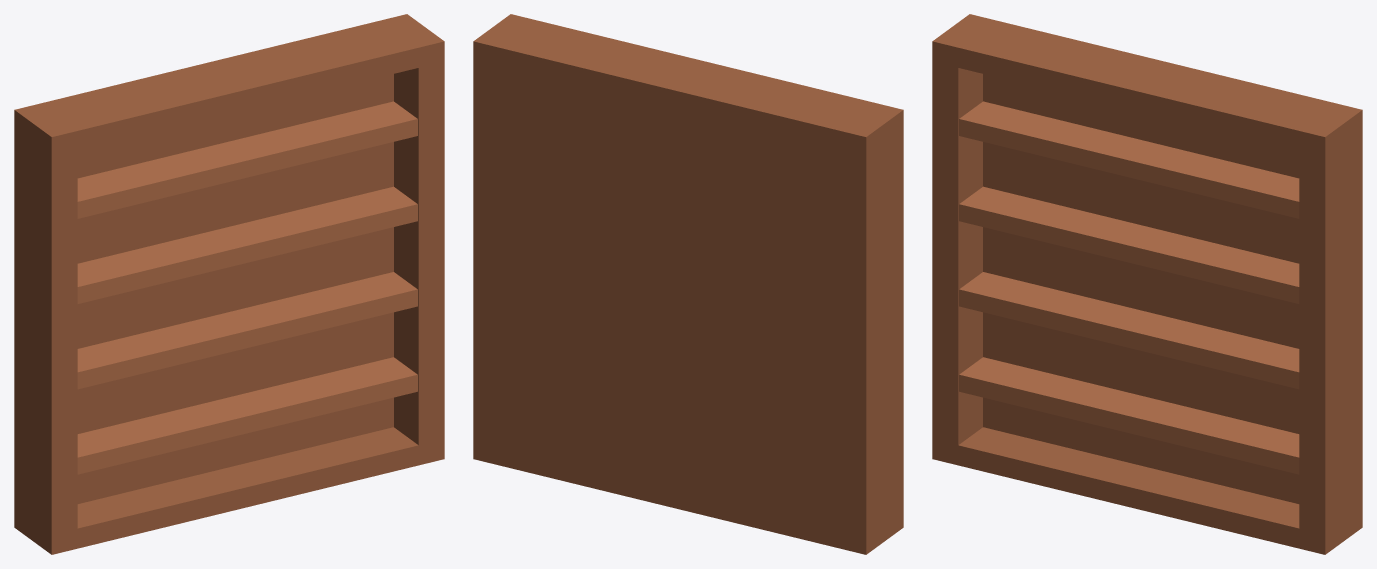
The model's file is bookshelf_2.glb.
3 views of the same model, side by side, from view 1: azimuth 30°, elevation 25°; view 2: azimuth 150°, elevation 25°; view 3: azimuth 330°, elevation 25° (orthographic).
Visible parts, largest first — view 1: bookshelf_2; view 2: bookshelf_2; view 3: bookshelf_2.
Part boxes in pixels (<box>): bookshelf_2: <box>14,14,444,554</box>; bookshelf_2: <box>473,14,903,554</box>; bookshelf_2: <box>932,14,1362,554</box>.
Bounding box in the file's own units: 0.8828 × 0.8972 × 0.1456.
Materials: 1 (1 with a texture image).
